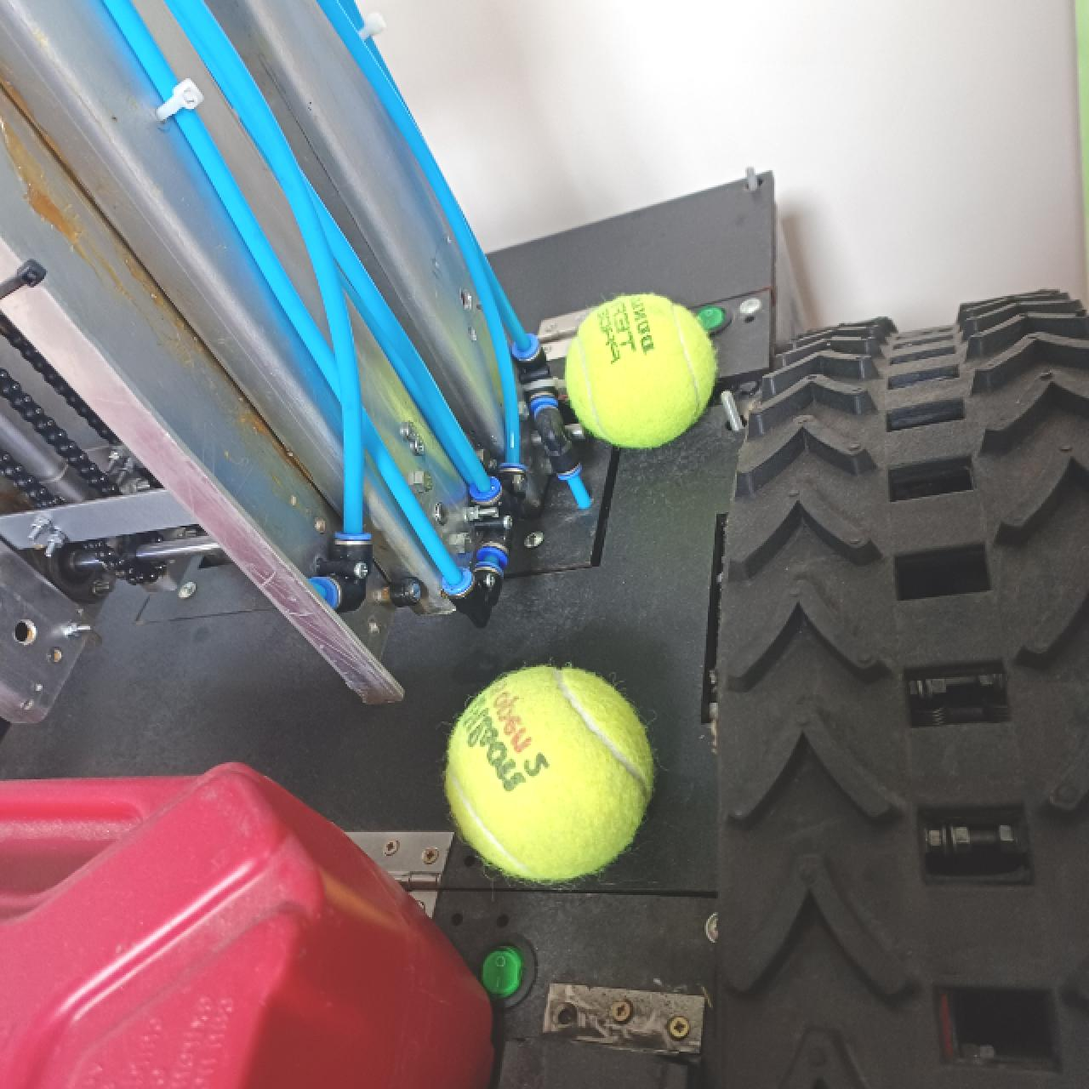tennis-ball: (444, 667, 653, 885), (561, 291, 721, 449)
